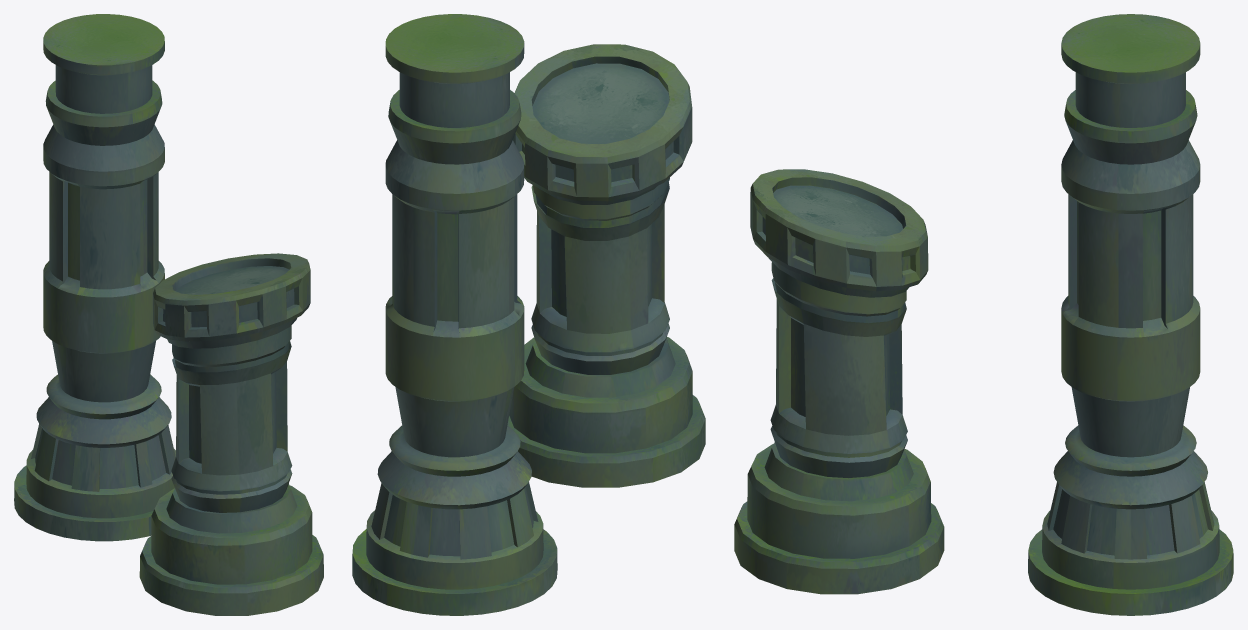
File: Pillar_Cylinders_02.fbx
3 views of the same model, side by side, from view 1: azimuth 30°, elevation 25°; view 2: azimuth 150°, elevation 25°; view 3: azimuth 270°, elevation 25° (orthographic). The views are drawn at different scales.
Visible parts, largest first — view 1: Cylinder_Pillar_02, Cylinder_Pillar_03; view 2: Cylinder_Pillar_02, Cylinder_Pillar_03; view 3: Cylinder_Pillar_02, Cylinder_Pillar_03.
Part boxes in pixels (x1,y1,x2,y2): Cylinder_Pillar_02: (14, 14, 175, 541); Cylinder_Pillar_03: (139, 253, 323, 615); Cylinder_Pillar_02: (352, 14, 557, 615); Cylinder_Pillar_03: (507, 44, 705, 487); Cylinder_Pillar_02: (1028, 14, 1233, 615); Cylinder_Pillar_03: (734, 169, 944, 594).
Bounding box in the file's own units: 298 × 840 × 719.
